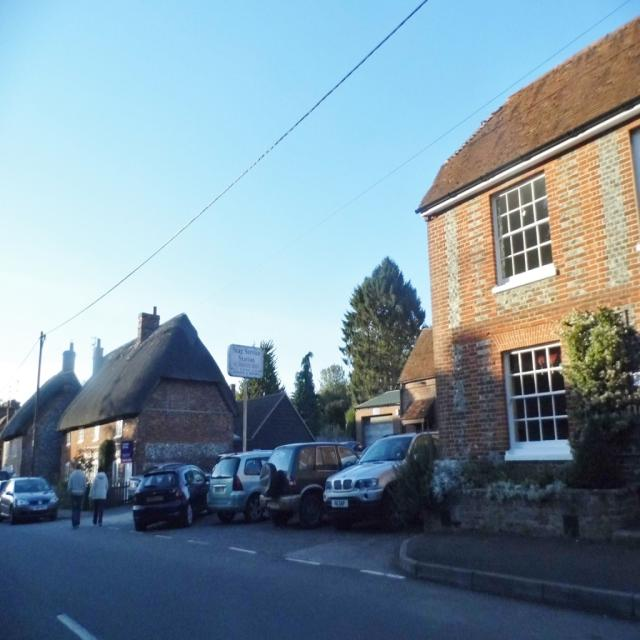car: (320, 433, 439, 528), (257, 433, 358, 534), (130, 460, 213, 532), (200, 447, 273, 515), (0, 470, 58, 522)
